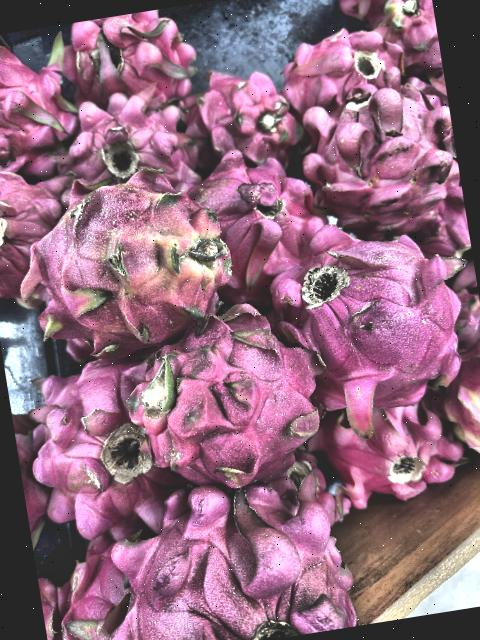buah-naga-belum-matang: (14, 154, 248, 362), (437, 354, 480, 485)
buah-naga-matang: (99, 464, 353, 640), (271, 214, 475, 430), (107, 310, 332, 498), (10, 353, 178, 538), (298, 62, 456, 240), (205, 138, 343, 284), (322, 389, 464, 506), (57, 88, 204, 198), (50, 6, 195, 112), (277, 12, 404, 122), (190, 62, 309, 178), (0, 25, 79, 177), (0, 163, 76, 285), (371, 0, 443, 79)
